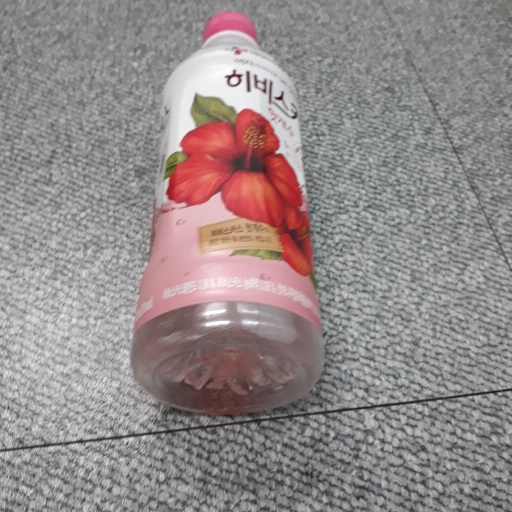Plastic_0: (128, 9, 329, 417)
